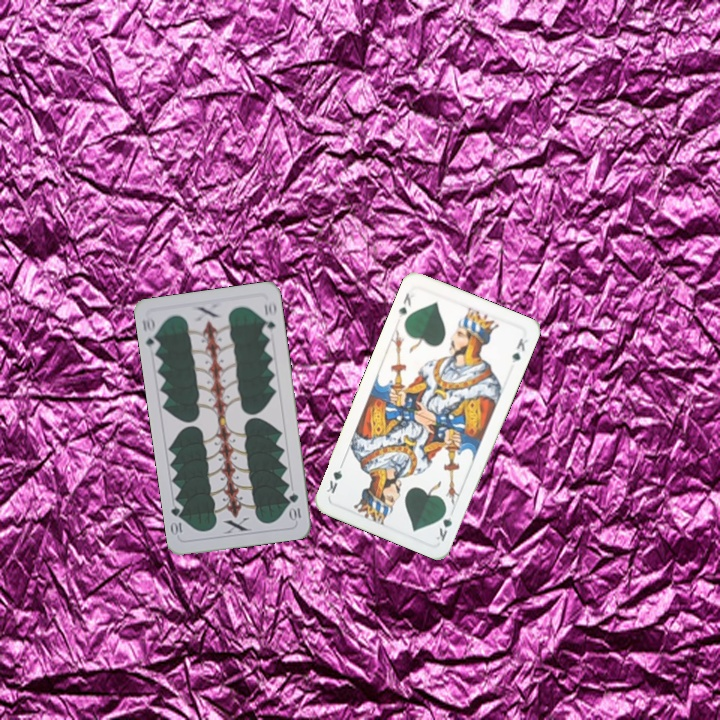G10: (138, 313, 162, 354), (285, 489, 303, 523)
GK: (432, 504, 457, 544), (394, 289, 414, 320)
